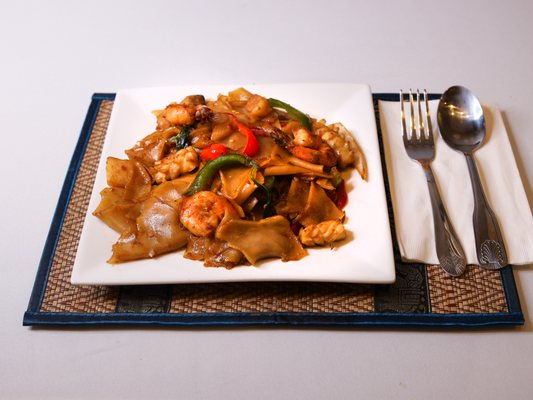burger: (437, 85, 521, 324), (399, 86, 468, 277)
